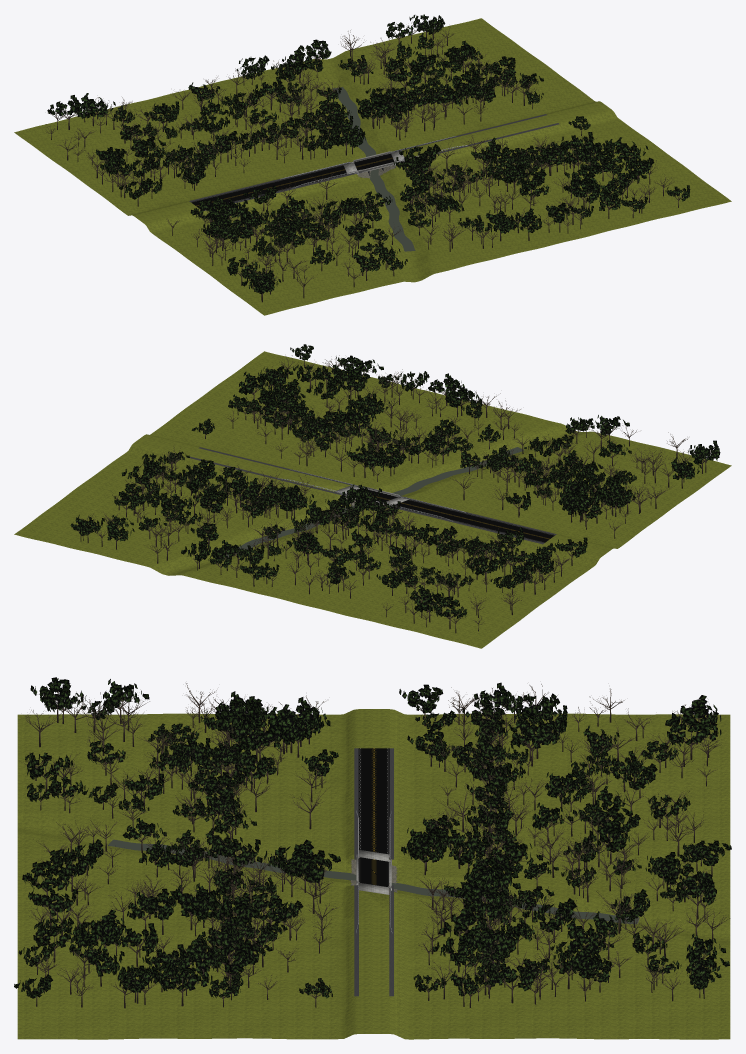
File: bridge_07620_lite.glb
The picture shows the model from 3 angles, top to bottom: view 1: azimuth 30°, elevation 25°; view 2: azimuth 150°, elevation 25°; view 3: azimuth 270°, elevation 25°; orthographic projection. The views are drawn at different scales.
Visible parts, largest first — view 1: TerrainOuter, TerrainInner, Water, Approach0; view 2: TerrainOuter, TerrainInner, Approach0, Water, TreeLeaves2; view 3: TerrainOuter, TreeLeaves2 (×47), TerrainInner, Approach0, Water, DeckSurface.
Part boxes in pixels (left/top/right/bottom): TerrainOuter: left=14, top=18, right=731, bottom=315; TerrainInner: left=274, top=125, right=471, bottom=203; Water: left=332, top=87, right=415, bottom=251; Approach0: left=191, top=165, right=346, bottom=208; TerrainOuter: left=14, top=351, right=731, bottom=648; TerrainInner: left=273, top=458, right=471, bottom=541; Approach0: left=395, top=499, right=554, bottom=542; Water: left=226, top=447, right=524, bottom=557; TreeLeaves2: left=427, top=596, right=466, bottom=618; TerrainOuter: left=17, top=709, right=730, bottom=1039; TreeLeaves2 (×47): left=22, top=677, right=729, bottom=990; TerrainInner: left=272, top=828, right=475, bottom=922; Approach0: left=358, top=748, right=389, bottom=858; Water: left=107, top=839, right=639, bottom=924; DeckSurface: left=359, top=857, right=389, bottom=887.
Bounding box in the file's own units: 914 × 64.1 × 846.
15 materials, 11 textured.
